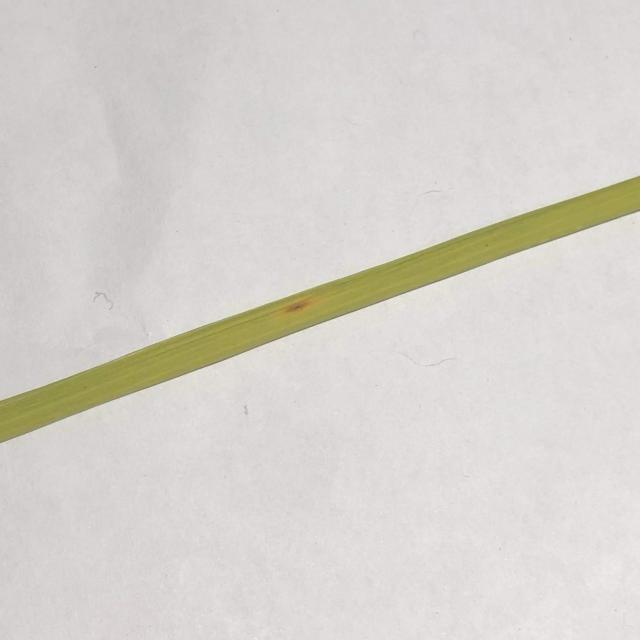brownspots: (278, 294, 312, 322)
